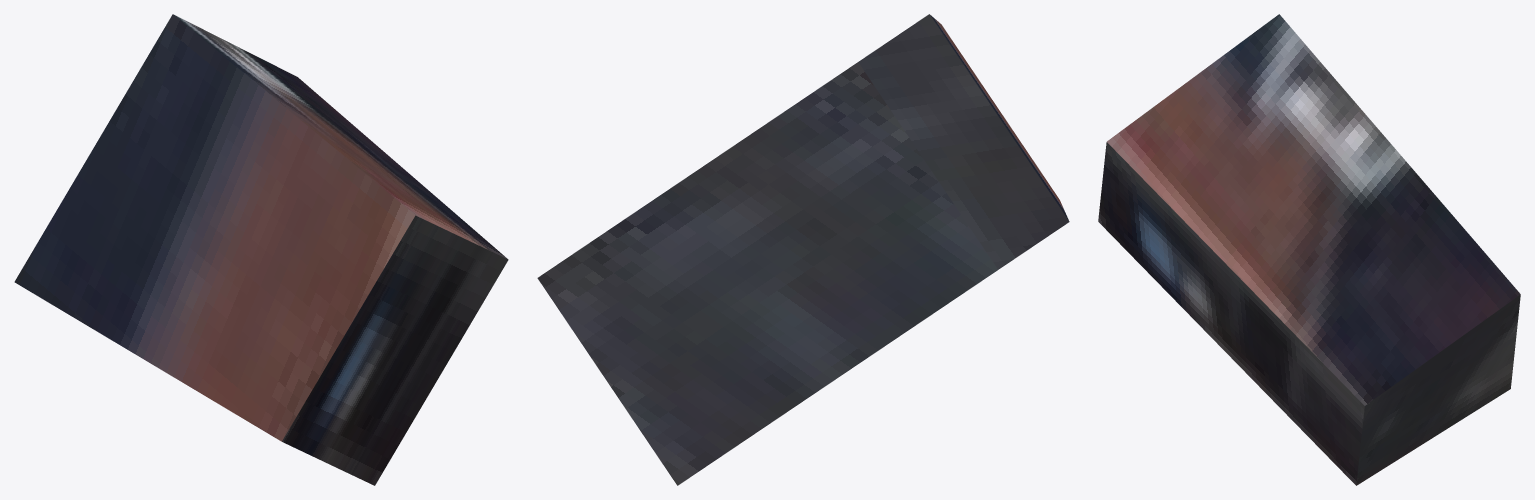
The picture shows the model from 3 angles, left to right: view 1: azimuth 30°, elevation 25°; view 2: azimuth 150°, elevation 25°; view 3: azimuth 270°, elevation 25°; orthographic projection. The views are drawn at different scales.
Visible parts, largest first — view 1: BAG_0599100010049759; view 2: BAG_0599100010049759; view 3: BAG_0599100010049759.
Boxes of the visible parts, left/top/right/bottom form: BAG_0599100010049759: left=14, top=14, right=508, bottom=485; BAG_0599100010049759: left=537, top=14, right=1069, bottom=485; BAG_0599100010049759: left=1098, top=14, right=1520, bottom=485.
Bounding box in the file's own units: 5.54 × 5.4 × 5.35.
2 materials, 1 textured.
